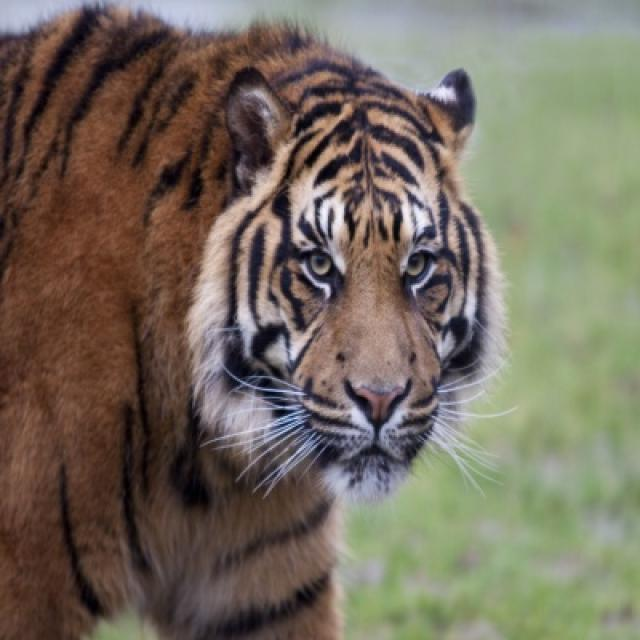Tiger: (11, 10, 484, 629)
